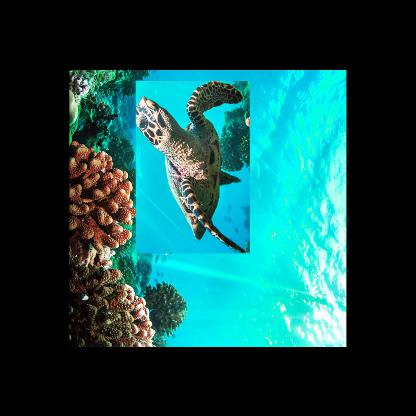turtle: (135, 80, 249, 252)
